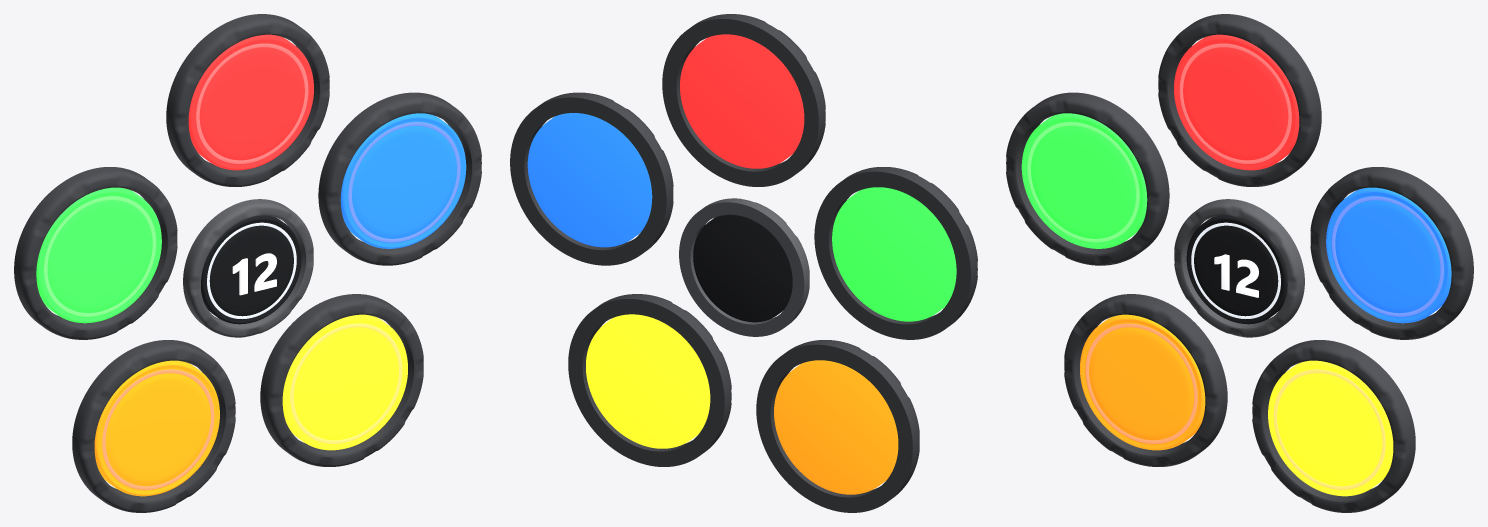
Rendered from MemoryGame_UI.glb.
3 views of the same model, side by side, from view 1: azimuth 30°, elevation 25°; view 2: azimuth 150°, elevation 25°; view 3: azimuth 330°, elevation 25° (orthographic).
Parts seen in each view (by area): view 1: Button_Yellow_Surface, Button_Red_Surface, Button_Green_Surface, Button_Orange_Surface, Button_Blue_Surface, Button_Green_Frame, Button_Red_Frame, Button_Blue_Frame, Button_Orange_Frame, Button_Yellow_Frame, Center_Surface, Center_Frame (+1 smaller); view 2: Button_Green_Surface, Button_Red_Surface, Button_Yellow_Surface, Button_Orange_Surface, Button_Blue_Surface, Button_Green_Frame, Button_Yellow_Frame, Button_Blue_Frame, Button_Red_Frame, Button_Orange_Frame, Center_Surface, Center_Frame; view 3: Button_Orange_Surface, Button_Red_Surface, Button_Blue_Surface, Button_Yellow_Surface, Button_Green_Surface, Button_Blue_Frame, Button_Red_Frame, Button_Green_Frame, Button_Yellow_Frame, Button_Orange_Frame, Center_Surface, Center_Frame (+1 smaller).
Boxes of the visible parts, x1,y1,x2,y2 form: Button_Yellow_Surface: (282, 314, 407, 450); Button_Red_Surface: (188, 34, 313, 170); Button_Green_Surface: (36, 187, 161, 323); Button_Orange_Surface: (94, 360, 219, 496); Button_Blue_Surface: (340, 113, 466, 248); Button_Green_Frame: (14, 167, 177, 339); Button_Red_Frame: (166, 14, 329, 186); Button_Blue_Frame: (318, 92, 481, 265); Button_Orange_Frame: (72, 340, 235, 512); Button_Yellow_Frame: (260, 294, 423, 466); Center_Surface: (201, 215, 301, 324); Center_Frame: (183, 199, 313, 337); Button_Green_Surface: (832, 187, 956, 321); Button_Red_Surface: (680, 34, 804, 168); Button_Yellow_Surface: (586, 314, 710, 448); Button_Orange_Surface: (774, 360, 898, 494); Button_Blue_Surface: (527, 113, 652, 247); Button_Green_Frame: (814, 167, 977, 339); Button_Yellow_Frame: (568, 294, 731, 466); Button_Blue_Frame: (510, 92, 673, 265); Button_Red_Frame: (662, 14, 825, 186); Button_Orange_Frame: (756, 340, 919, 512); Center_Surface: (693, 214, 792, 322); Center_Frame: (679, 198, 809, 336); Button_Orange_Surface: (1080, 314, 1205, 450); Button_Red_Surface: (1174, 34, 1299, 170); Button_Blue_Surface: (1326, 187, 1451, 323); Button_Yellow_Surface: (1268, 360, 1393, 496); Button_Green_Surface: (1021, 113, 1147, 248); Button_Blue_Frame: (1310, 167, 1473, 339); Button_Red_Frame: (1158, 14, 1321, 186); Button_Green_Frame: (1006, 92, 1169, 265); Button_Yellow_Frame: (1252, 340, 1415, 512); Button_Orange_Frame: (1064, 294, 1227, 466); Center_Surface: (1186, 215, 1286, 324); Center_Frame: (1174, 199, 1304, 337).
Size of the model in its own units: 6.62 by 6.41 by 0.2508.
